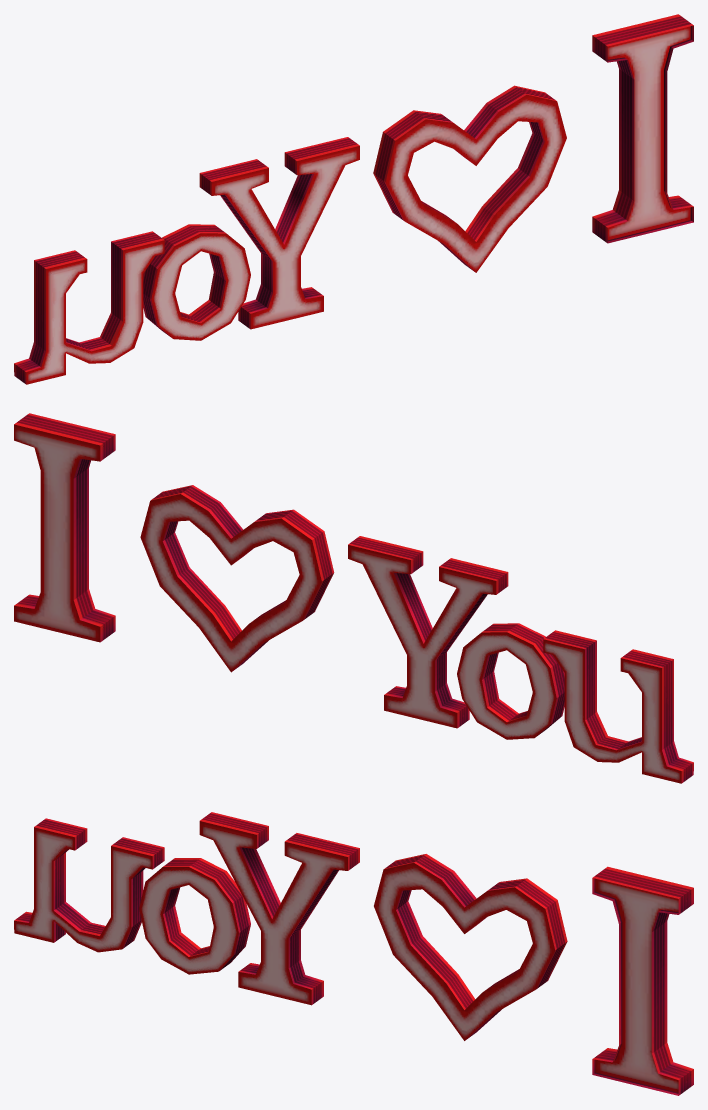
Rendered from furni_0200205.FBX.
3 renders of one model, top to bottom at view 1: azimuth 30°, elevation 25°; view 2: azimuth 150°, elevation 25°; view 3: azimuth 330°, elevation 25°, orthographic.
Parts seen in each view (by area): view 1: furni_0200205; view 2: furni_0200205; view 3: furni_0200205.
Part boxes in pixels (x1=…): furni_0200205: x1=14, y1=14, x2=693, y2=384; furni_0200205: x1=14, y1=413, x2=693, y2=783; furni_0200205: x1=14, y1=812, x2=693, y2=1095.
Bounding box in the file's own units: 240 × 68.19 × 9.59.
Materials: 1 (1 with a texture image).
